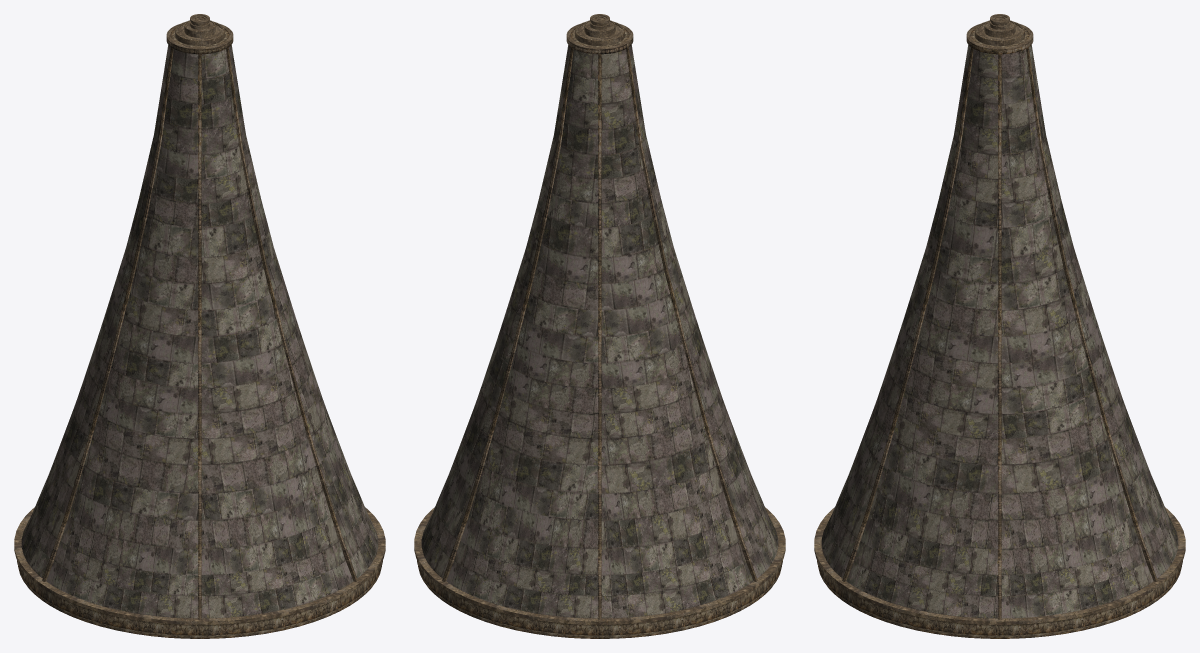
File: materials_5_roof_6.fbx
The picture shows the model from 3 angles, left to right: view 1: azimuth 30°, elevation 25°; view 2: azimuth 150°, elevation 25°; view 3: azimuth 270°, elevation 25°; orthographic projection.
Visible parts, largest first — view 1: materials_5_roof_6; view 2: materials_5_roof_6; view 3: materials_5_roof_6.
Part boxes in pixels (x1,y1,x2,y2): materials_5_roof_6: [14, 14, 385, 638]; materials_5_roof_6: [414, 14, 785, 638]; materials_5_roof_6: [814, 14, 1185, 638].
Size of the model in its own units: 736 by 1187 by 735.
